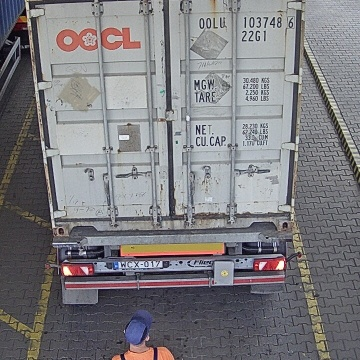serial_id: (199, 16, 295, 28)
